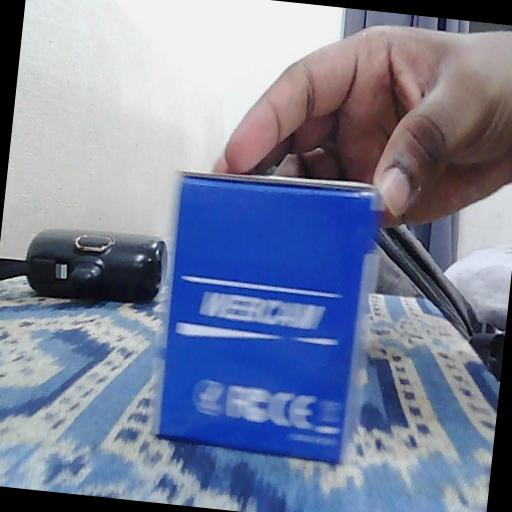webcam_box: (148, 164, 386, 467)
